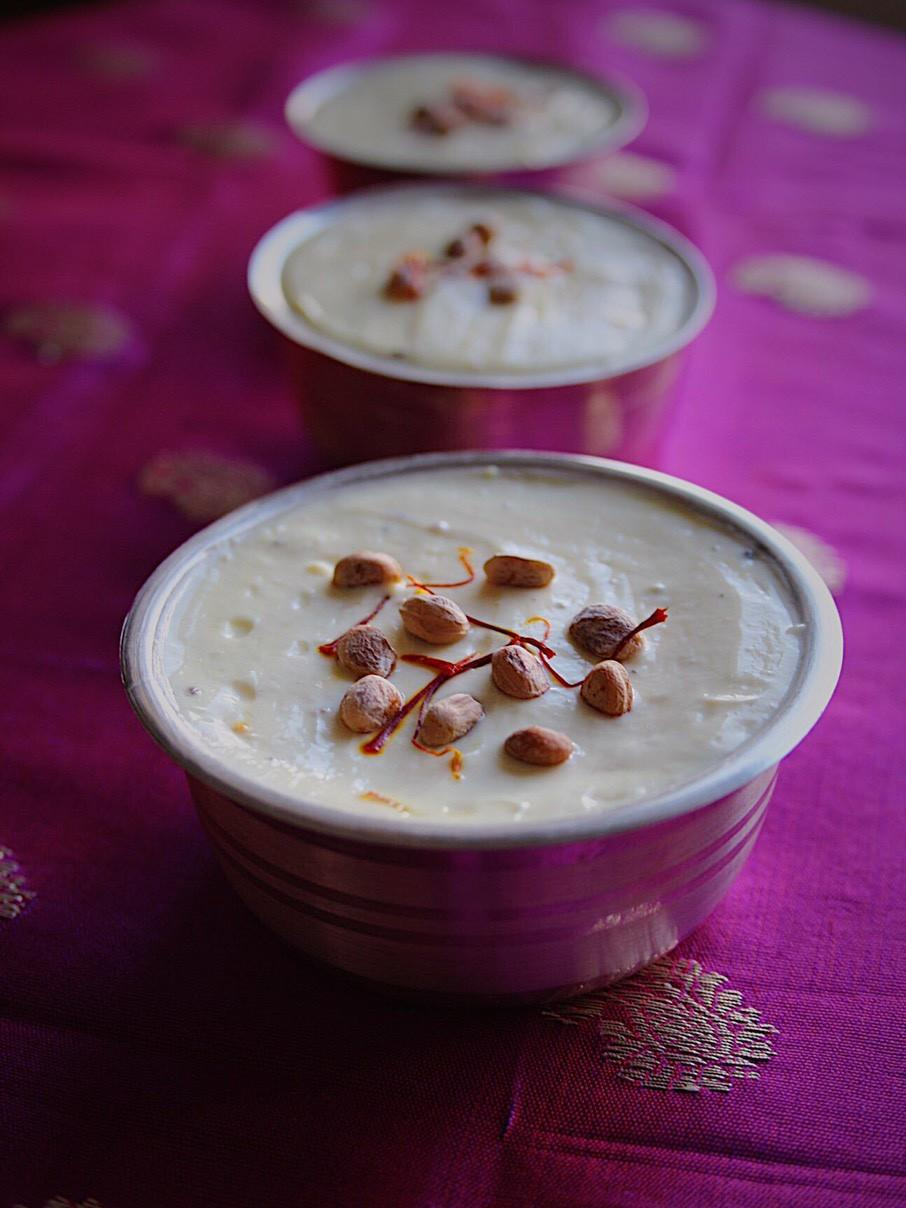Kheer: (163, 466, 807, 824), (281, 202, 690, 371)
